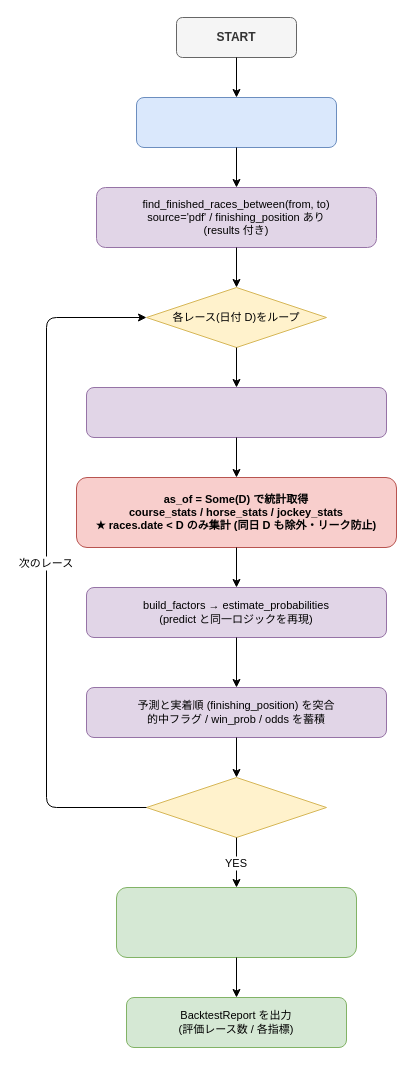
The diagram is 414 pixels wide and 1065 high, and some of its shapes have lost their labels. Each missing label, with the centre of its shape:
"results から HorseEntry 復元 (gate_num / horse_num / horse_name / jockey)" goes at pixel 236 412.
"入力 期間 from / to (NaiveDate)" goes at pixel 236 122.
"全レース完了？" goes at pixel 236 807.
"指標集計 的中率(単勝/連対/複勝) / 想定回収率 Brier / LogLoss" goes at pixel 236 922.
